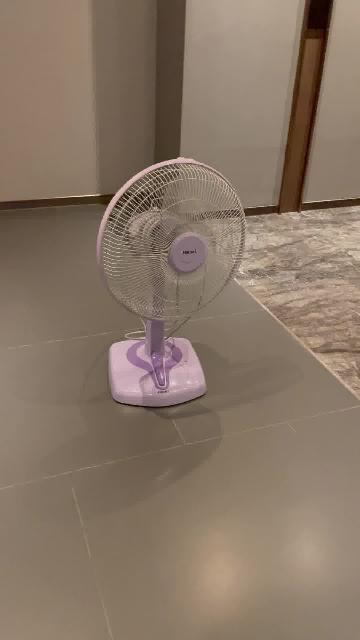Fan: (96, 158, 246, 409)
